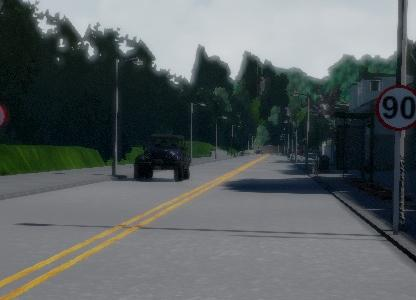Speed_90: (374, 83, 416, 132)
